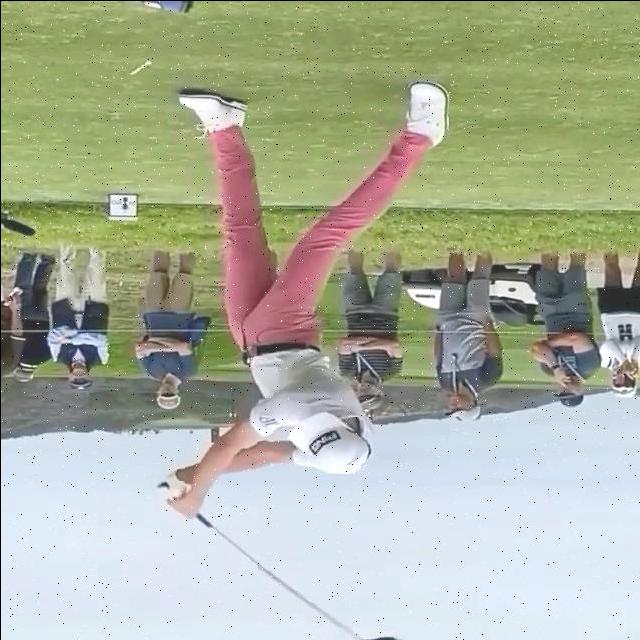golf club-handle: (158, 481, 398, 640)
